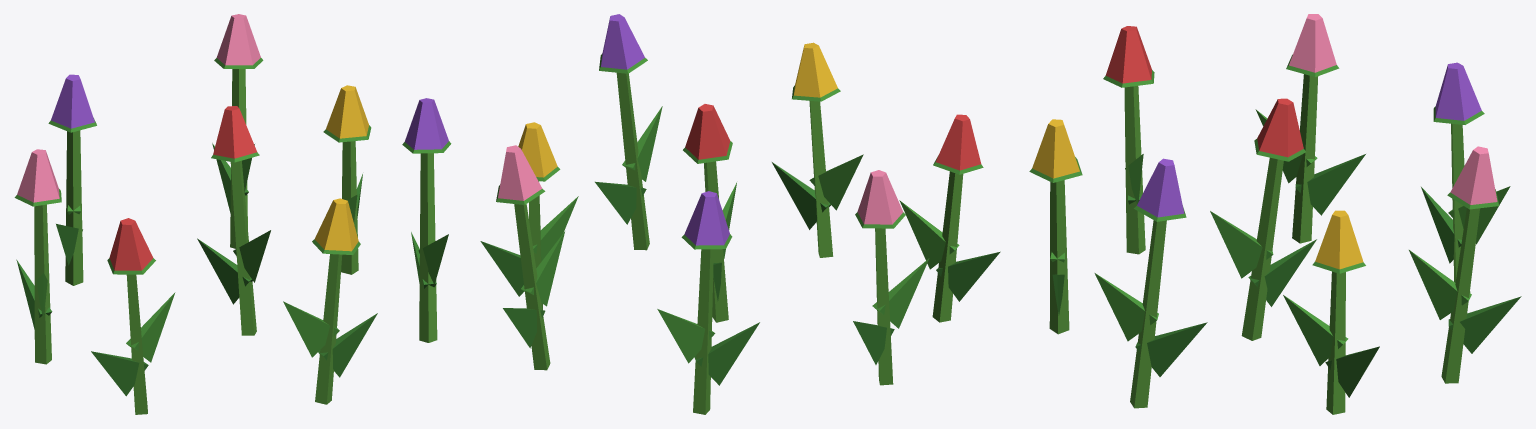
Rendered from flower-3.glb.
3 renders of one model, left to right at view 1: azimuth 30°, elevation 25°; view 2: azimuth 150°, elevation 25°; view 3: azimuth 270°, elevation 25°, orthographic. The views are drawn at different scales.
Visible parts, largest first — view 1: flower-3; view 2: flower-3; view 3: flower-3.
Boxes of the visible parts, bbox=[...] form: flower-3: bbox=[14, 14, 451, 414]; flower-3: bbox=[480, 14, 1000, 414]; flower-3: bbox=[1029, 14, 1521, 414].
Bounding box in the file's own units: 0.6888 × 0.3896 × 0.6945.
1 material, 1 textured.
